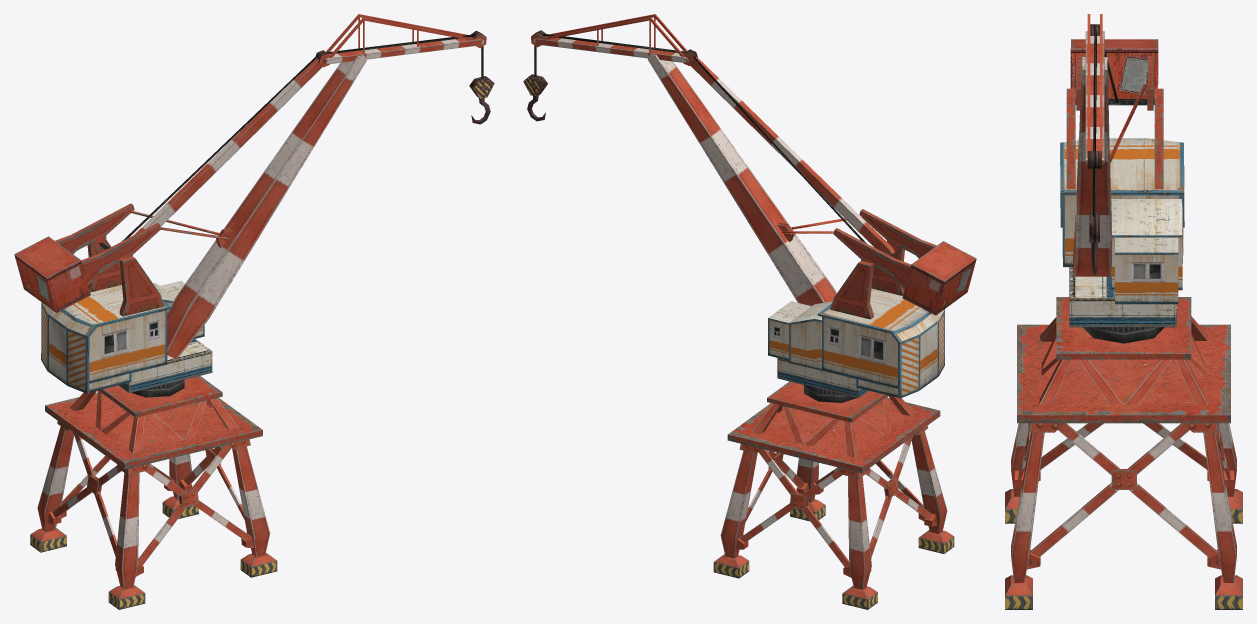
File: Prop_Wj001.glb
3 views of the same model, side by side, from view 1: azimuth 30°, elevation 25°; view 2: azimuth 150°, elevation 25°; view 3: azimuth 270°, elevation 25° (orthographic). The views are drawn at different scales.
Visible parts, largest first — view 1: xiutz_wj001_0; view 2: xiutz_wj001_0; view 3: xiutz_wj001_0.
Boxes of the visible parts, x1,y1,x2,y2 form: xiutz_wj001_0: [14, 14, 494, 609]; xiutz_wj001_0: [523, 14, 976, 609]; xiutz_wj001_0: [1005, 14, 1242, 609].
Bounding box in the file's own units: 68.78 × 72.58 × 23.23.
1 material, 1 textured.
